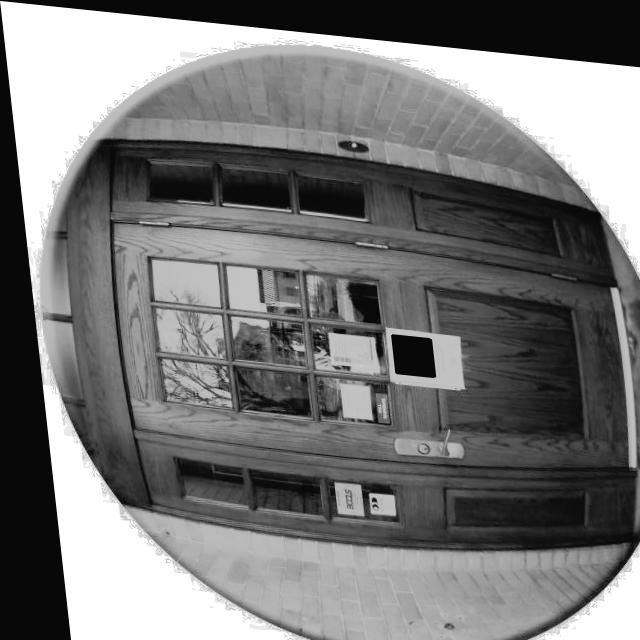qr_code: (385, 325, 427, 368)
